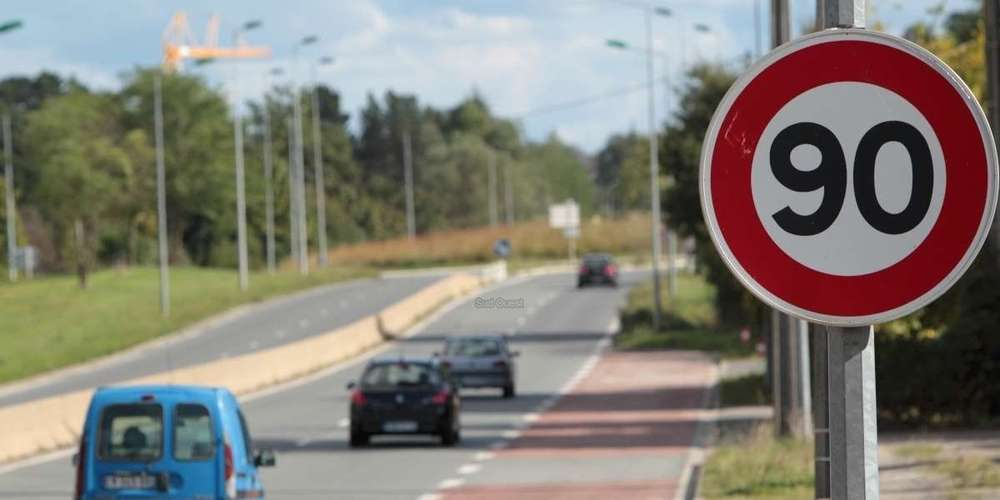Speed_limit_90km: (696, 27, 999, 323)
car: (343, 350, 468, 456)
